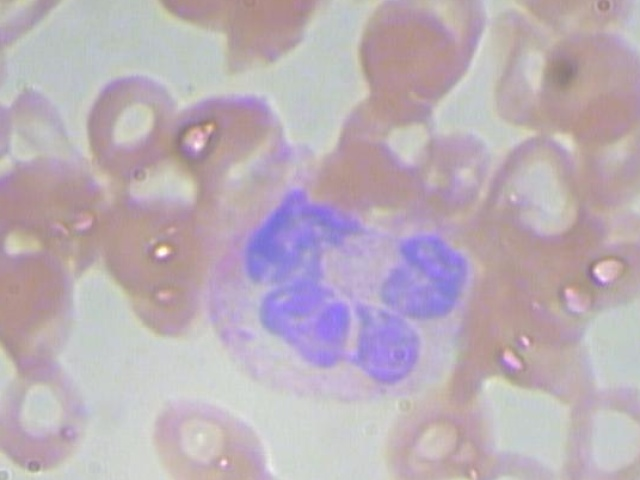RBC: (465, 130, 601, 244), (163, 85, 301, 181), (94, 180, 207, 296), (527, 26, 640, 141), (75, 65, 187, 181), (0, 363, 112, 477), (353, 0, 466, 109), (329, 82, 446, 183), (0, 145, 112, 250), (145, 392, 274, 480), (543, 203, 640, 318), (384, 381, 496, 480), (0, 250, 94, 365), (200, 0, 338, 78), (553, 385, 640, 480), (450, 449, 569, 480), (0, 77, 16, 167), (0, 442, 5, 480)
WBC: (200, 182, 478, 410)
